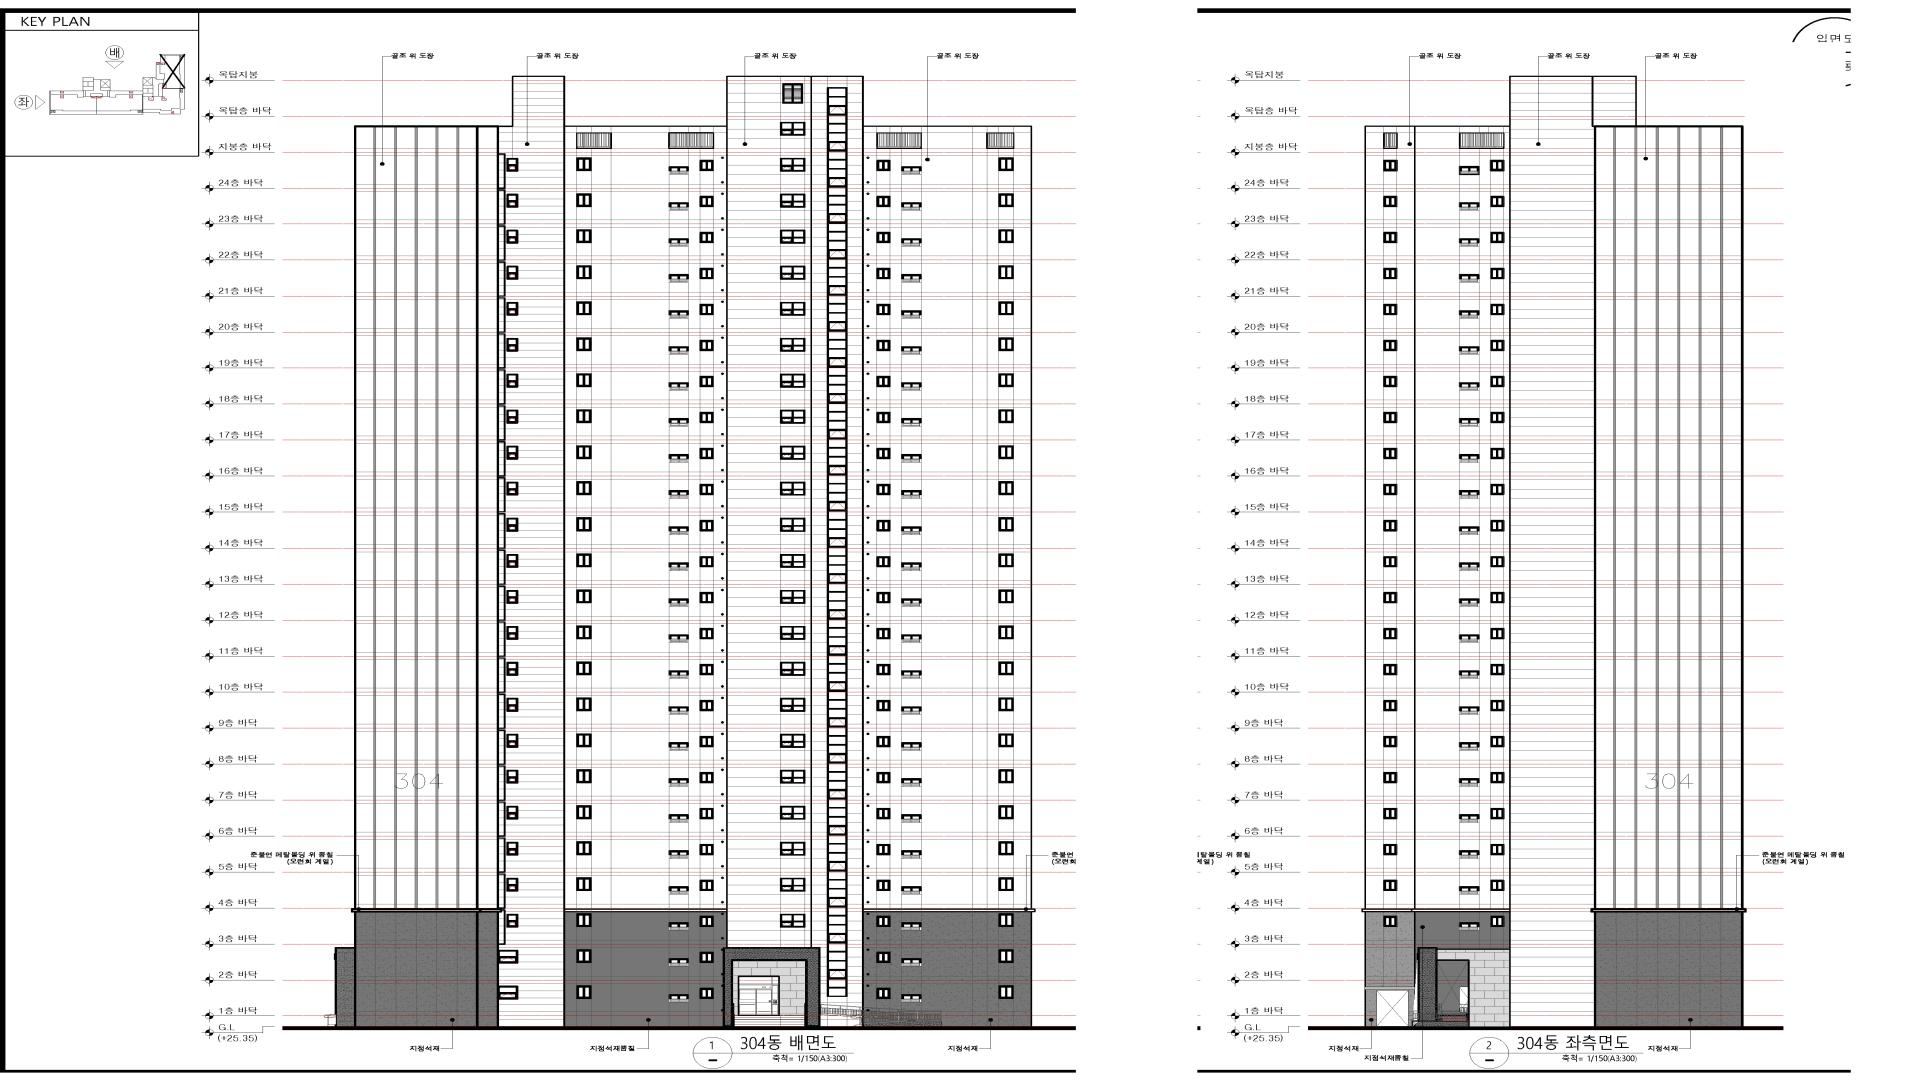door: (1437, 960, 1469, 1015), (737, 976, 781, 1015), (1377, 990, 1408, 1026)
wall: (335, 75, 1033, 1030), (1365, 75, 1743, 1030)
window: (827, 943, 848, 997), (827, 258, 848, 295), (827, 510, 848, 547), (827, 583, 848, 620), (827, 654, 848, 691), (827, 727, 848, 764), (827, 115, 848, 150), (827, 150, 848, 186), (827, 187, 848, 223), (827, 223, 848, 258), (827, 295, 848, 331), (827, 331, 848, 367), (827, 368, 848, 404), (827, 404, 848, 439), (827, 439, 848, 475), (827, 475, 848, 510), (827, 547, 848, 583), (827, 691, 848, 727), (827, 764, 848, 799), (827, 799, 848, 835), (827, 835, 848, 870), (827, 870, 848, 906), (827, 906, 848, 942), (827, 620, 848, 654), (827, 87, 848, 115), (782, 83, 803, 104), (779, 698, 806, 712), (779, 589, 806, 604), (779, 373, 806, 388), (779, 338, 806, 352), (779, 265, 806, 280), (779, 229, 806, 244), (779, 121, 806, 136), (781, 841, 806, 856), (781, 806, 806, 820), (781, 554, 806, 568), (781, 481, 806, 496), (779, 914, 806, 927), (779, 878, 806, 891), (779, 770, 806, 783), (779, 735, 806, 748), (779, 626, 806, 640), (779, 518, 806, 531), (779, 446, 806, 459), (779, 410, 806, 423), (779, 302, 806, 315), (779, 194, 806, 207), (779, 158, 806, 171), (781, 662, 806, 675), (497, 985, 518, 1000), (498, 949, 518, 964), (576, 157, 592, 171), (576, 265, 592, 280), (576, 301, 592, 315), (576, 409, 592, 423), (576, 517, 592, 531), (576, 625, 592, 640), (576, 733, 592, 748), (576, 769, 592, 783), (576, 877, 592, 891), (576, 985, 592, 1000), (998, 985, 1014, 1000), (998, 877, 1014, 891), (998, 769, 1014, 783), (998, 733, 1014, 748), (998, 625, 1014, 640), (998, 589, 1014, 604), (998, 517, 1014, 531), (998, 409, 1014, 423), (998, 373, 1014, 388), (998, 301, 1014, 315), (998, 265, 1014, 280), (998, 229, 1014, 244), (998, 157, 1014, 171), (576, 194, 592, 207), (576, 229, 592, 243), (576, 338, 592, 351), (576, 373, 592, 386), (576, 446, 592, 459), (576, 481, 592, 495), (576, 554, 592, 567), (576, 589, 592, 603), (576, 662, 592, 675), (576, 698, 592, 711), (576, 806, 592, 819), (576, 841, 592, 855), (576, 914, 592, 927), (576, 949, 592, 963), (998, 949, 1014, 963), (998, 914, 1014, 927), (998, 841, 1014, 855), (998, 806, 1014, 819), (998, 698, 1014, 711), (998, 662, 1014, 675), (998, 554, 1014, 567), (998, 481, 1014, 495), (998, 446, 1014, 459), (998, 338, 1014, 351), (998, 194, 1014, 207), (901, 202, 922, 211), (901, 454, 922, 463), (901, 526, 922, 535), (901, 670, 922, 679), (901, 814, 922, 823), (669, 957, 690, 967), (669, 922, 690, 931), (669, 670, 690, 679), (669, 526, 690, 535), (669, 454, 690, 463), (669, 310, 690, 319), (669, 202, 690, 211), (1458, 166, 1480, 175), (1458, 202, 1480, 211), (1458, 310, 1480, 319), (1458, 454, 1480, 463), (1458, 562, 1480, 571), (1458, 670, 1480, 679), (1458, 814, 1480, 823), (1458, 922, 1480, 931), (506, 229, 518, 244), (506, 302, 518, 316), (506, 338, 518, 352), (506, 446, 518, 460), (506, 481, 518, 496), (506, 554, 518, 568), (506, 589, 518, 604), (506, 698, 518, 712), (506, 806, 518, 820), (506, 841, 518, 856), (699, 988, 713, 1000), (699, 915, 713, 927), (699, 880, 713, 891), (699, 844, 713, 856), (699, 771, 713, 783), (699, 736, 713, 748), (699, 663, 713, 675), (699, 628, 713, 640), (699, 520, 713, 531), (699, 447, 713, 459), (699, 411, 713, 423), (699, 376, 713, 388), (699, 303, 713, 315), (699, 268, 713, 280), (877, 195, 891, 207), (876, 303, 890, 315), (876, 376, 890, 388), (876, 520, 890, 531), (876, 736, 890, 748), (876, 844, 890, 856), (876, 880, 890, 891), (876, 915, 890, 927), (876, 988, 890, 1000), (1383, 160, 1398, 171), (1383, 195, 1398, 207), (1383, 232, 1398, 244), (1383, 268, 1398, 280), (1383, 303, 1398, 315), (1383, 340, 1398, 352), (1383, 376, 1398, 388), (1383, 411, 1398, 423), (1383, 484, 1398, 496), (1383, 520, 1398, 531), (1383, 628, 1398, 640), (1383, 663, 1398, 675), (1383, 736, 1398, 748), (1383, 771, 1398, 783), (1383, 844, 1398, 856), (1383, 880, 1398, 891), (1383, 915, 1398, 927), (1490, 915, 1505, 927), (1490, 880, 1505, 891), (1490, 844, 1505, 856), (1490, 771, 1505, 783), (1490, 736, 1505, 748), (1490, 628, 1505, 640), (1490, 520, 1505, 531), (1490, 411, 1505, 423), (1490, 376, 1505, 388), (1490, 303, 1505, 315), (1490, 268, 1505, 280), (1490, 195, 1505, 207), (1490, 160, 1505, 171), (901, 166, 922, 174), (901, 239, 922, 247), (901, 274, 922, 282), (901, 310, 922, 318), (901, 347, 922, 355), (901, 382, 922, 390), (901, 418, 922, 426), (901, 491, 922, 498), (901, 563, 922, 571), (901, 599, 922, 607), (901, 634, 922, 642), (901, 707, 922, 715), (901, 742, 922, 750), (901, 778, 922, 786), (901, 851, 922, 858), (901, 886, 922, 894), (901, 922, 922, 930), (901, 959, 922, 967), (901, 994, 922, 1002), (669, 994, 690, 1002), (669, 851, 690, 858), (669, 778, 690, 786), (669, 742, 690, 750), (669, 707, 690, 715), (669, 634, 690, 642), (669, 563, 690, 571), (669, 418, 690, 426), (669, 382, 690, 390), (669, 274, 690, 282), (669, 166, 690, 174), (1458, 239, 1480, 247), (1458, 347, 1480, 355), (1458, 382, 1480, 390), (1458, 418, 1480, 426), (1458, 491, 1480, 498), (1458, 526, 1480, 534), (1458, 599, 1480, 607), (1458, 634, 1480, 642), (1458, 707, 1480, 715), (1458, 742, 1480, 750), (1458, 778, 1480, 786), (1458, 851, 1480, 858), (506, 158, 518, 171), (506, 194, 518, 207), (506, 266, 518, 280), (506, 375, 518, 388), (506, 410, 518, 423), (506, 518, 518, 531), (506, 626, 518, 640), (506, 662, 518, 675), (506, 735, 518, 748), (506, 770, 518, 783), (506, 878, 518, 891), (506, 914, 518, 927), (700, 160, 713, 171), (877, 160, 890, 171), (877, 268, 890, 280), (877, 411, 890, 423), (877, 484, 890, 496), (877, 592, 890, 604), (877, 628, 890, 640), (877, 663, 890, 675), (877, 771, 890, 783), (669, 886, 688, 894), (669, 815, 688, 823), (669, 599, 688, 607), (669, 491, 688, 498), (669, 347, 688, 355), (669, 239, 688, 247), (1460, 274, 1480, 282), (1460, 886, 1480, 894), (699, 952, 713, 963), (699, 808, 713, 819), (699, 700, 713, 711), (699, 592, 713, 603), (699, 556, 713, 567), (699, 484, 713, 495), (699, 340, 713, 351), (699, 232, 713, 243), (699, 196, 713, 207), (876, 232, 890, 243), (876, 448, 890, 459), (876, 952, 890, 963), (1383, 448, 1398, 459), (1383, 556, 1398, 567), (1383, 592, 1398, 603), (1383, 700, 1398, 711), (1383, 808, 1398, 819), (1490, 808, 1505, 819), (1490, 700, 1505, 711), (1490, 665, 1505, 675), (1490, 592, 1505, 603), (1490, 556, 1505, 567), (1490, 484, 1505, 495), (1490, 448, 1505, 459), (1490, 340, 1505, 351), (1490, 232, 1505, 243), (877, 340, 890, 351), (877, 556, 890, 567), (877, 700, 890, 711), (877, 808, 890, 819)
